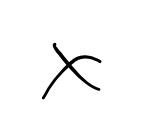plus: (40, 42, 101, 99)
